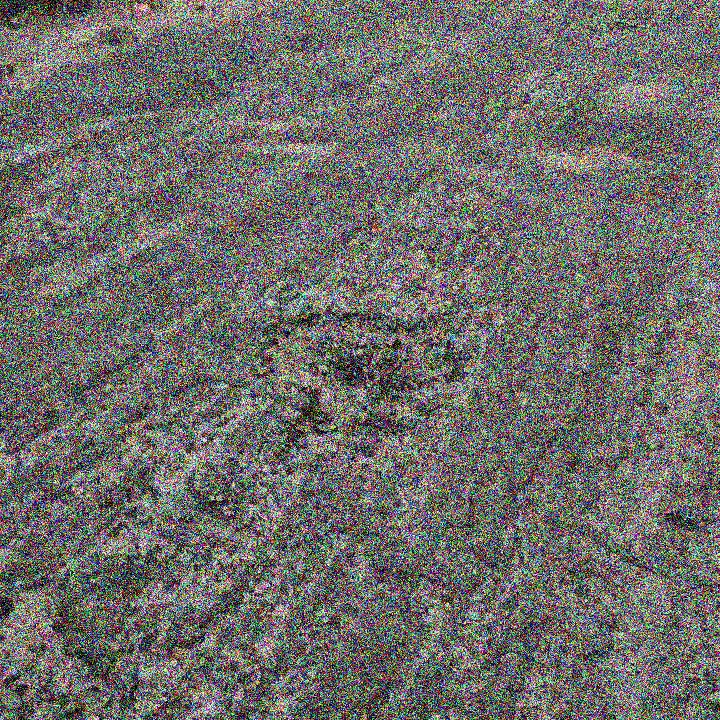pothole: (256, 299, 462, 470)
